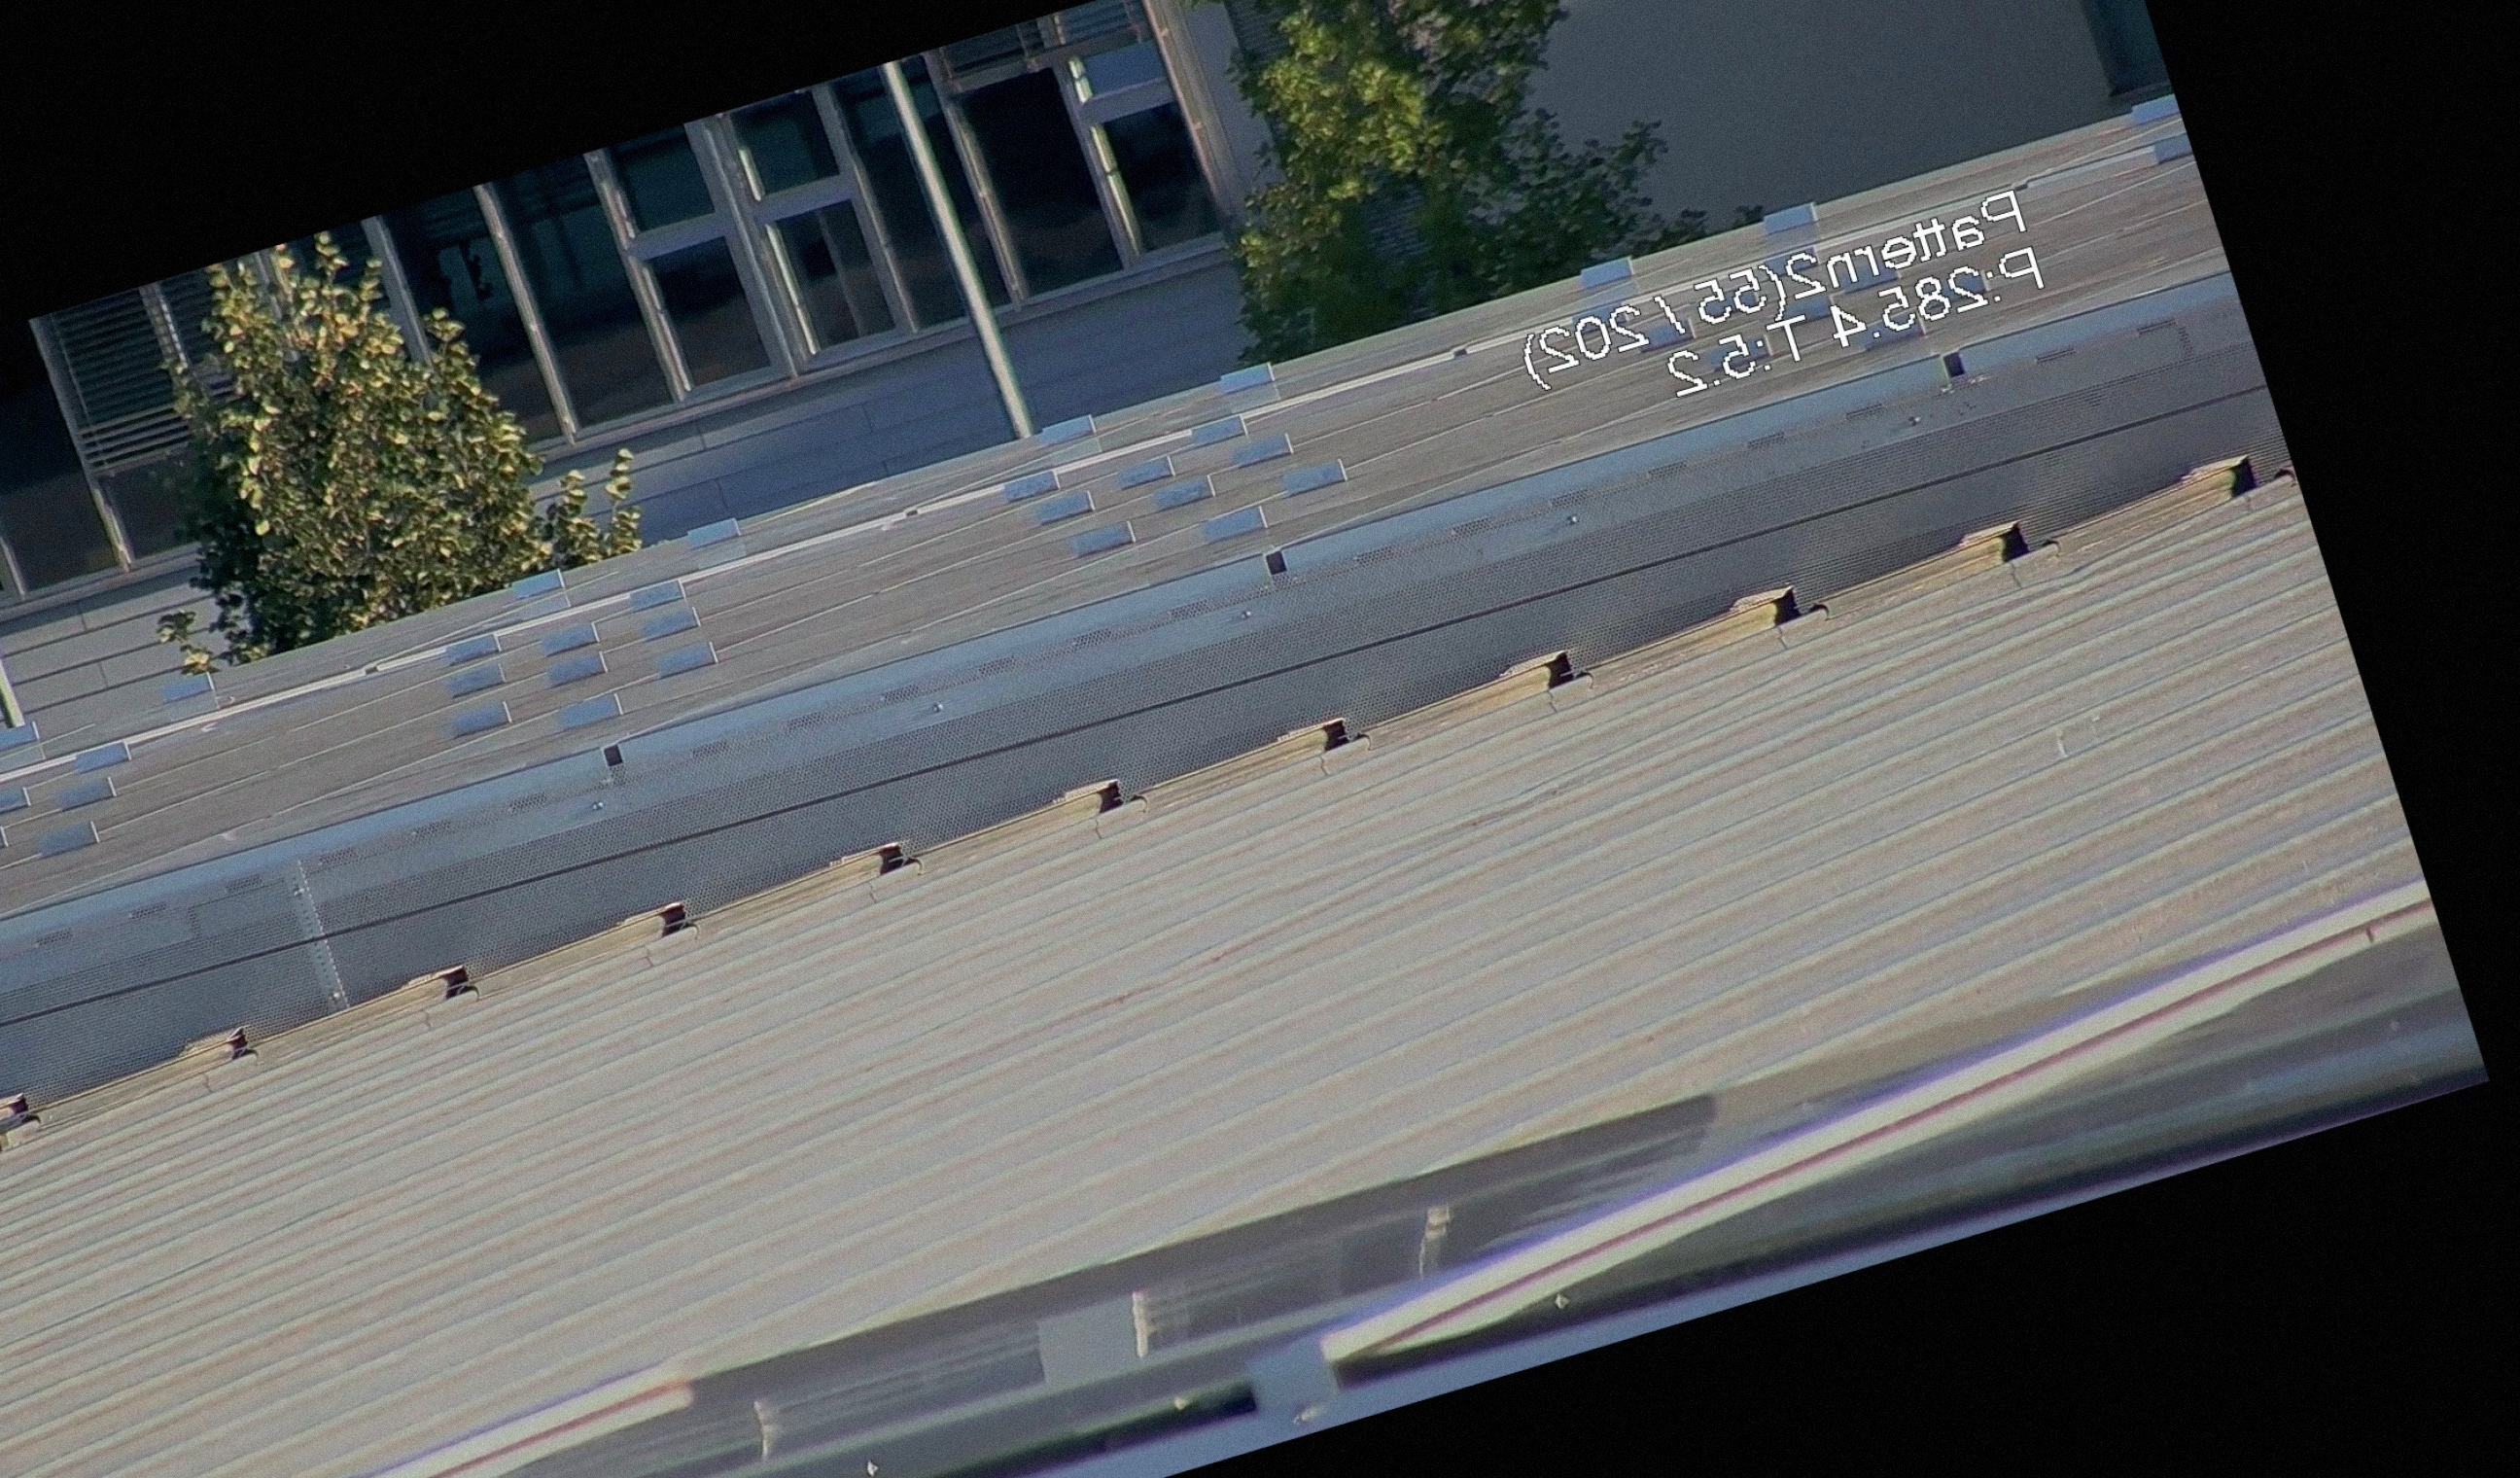Other: (1532, 635, 1606, 702)
